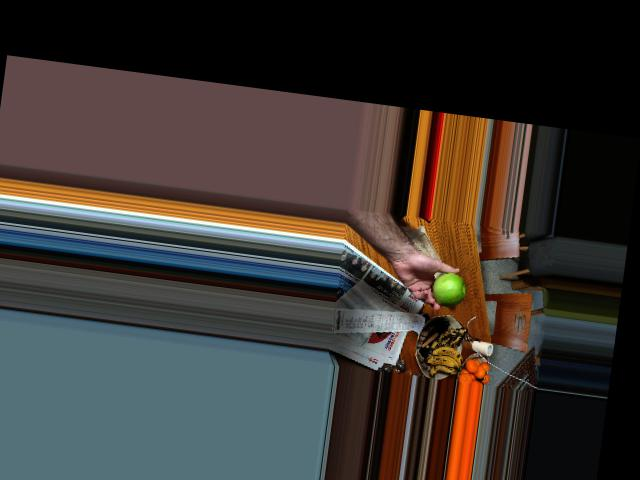apple: (428, 270, 466, 309)
